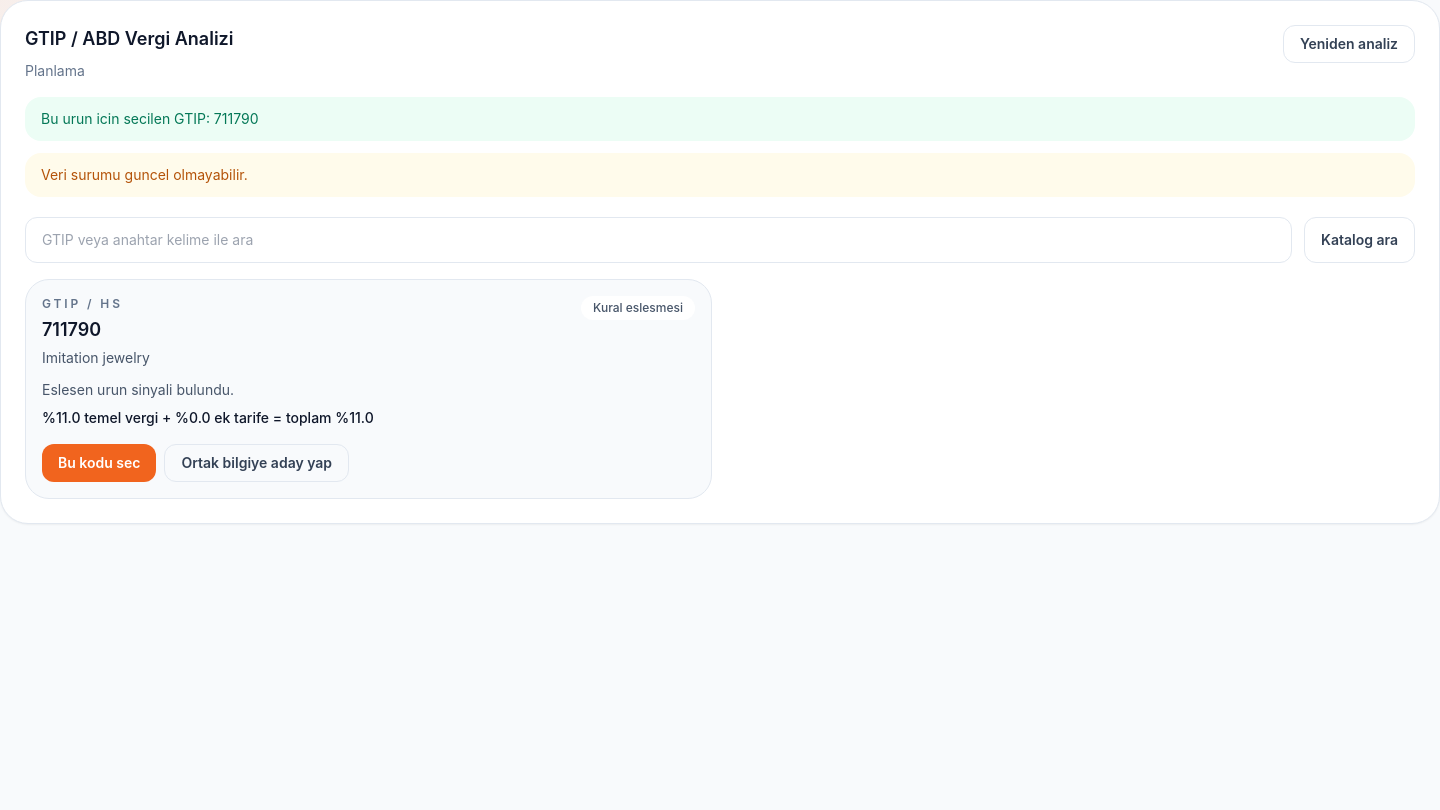
Test: ProductTariffPanel › shows stale badge and candidate success message
expect the text "Veri surumu guncel olmayabilir." is shown: met, box [25,153,1415,197]
Click the button "Ortak bilgiye aday yap": [257, 463] box [164,444,349,482]
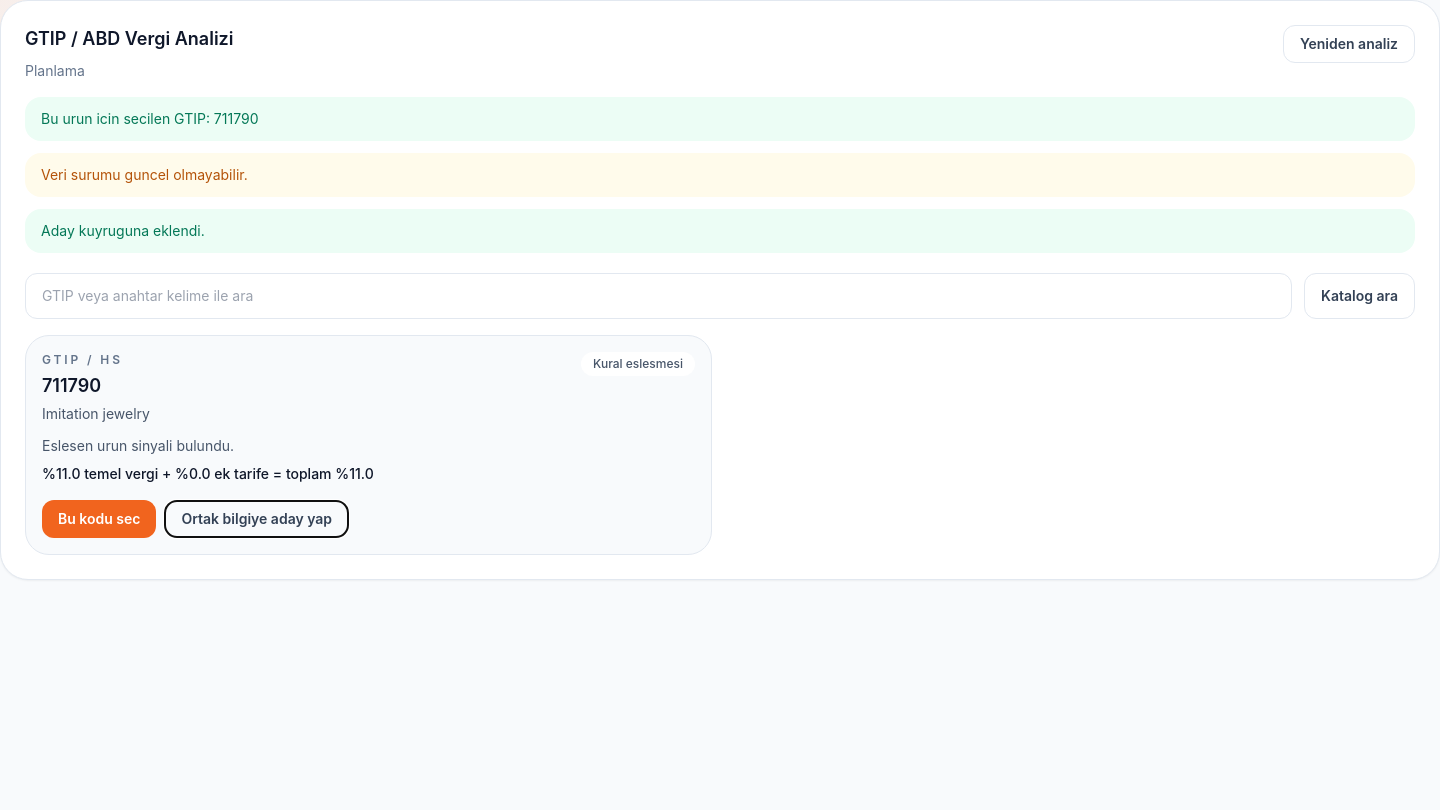
expect the text "Aday kuyruguna eklendi." is shown: met, box [25,209,1415,253]
